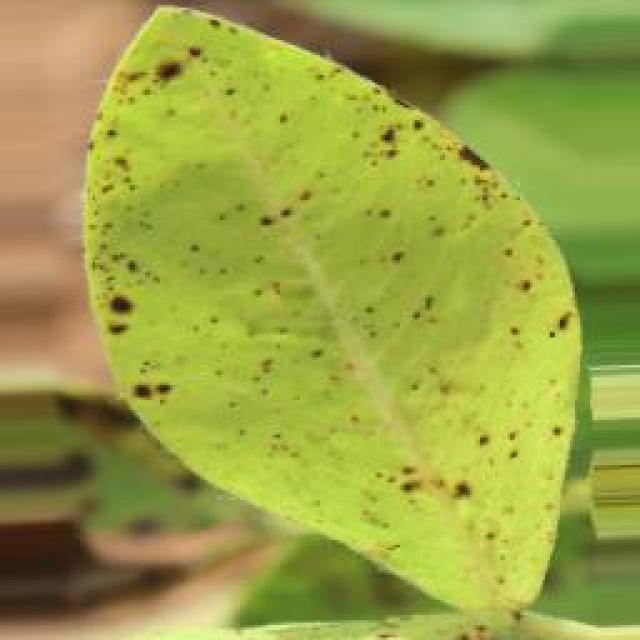Yellowish: (65, 15, 610, 603)
